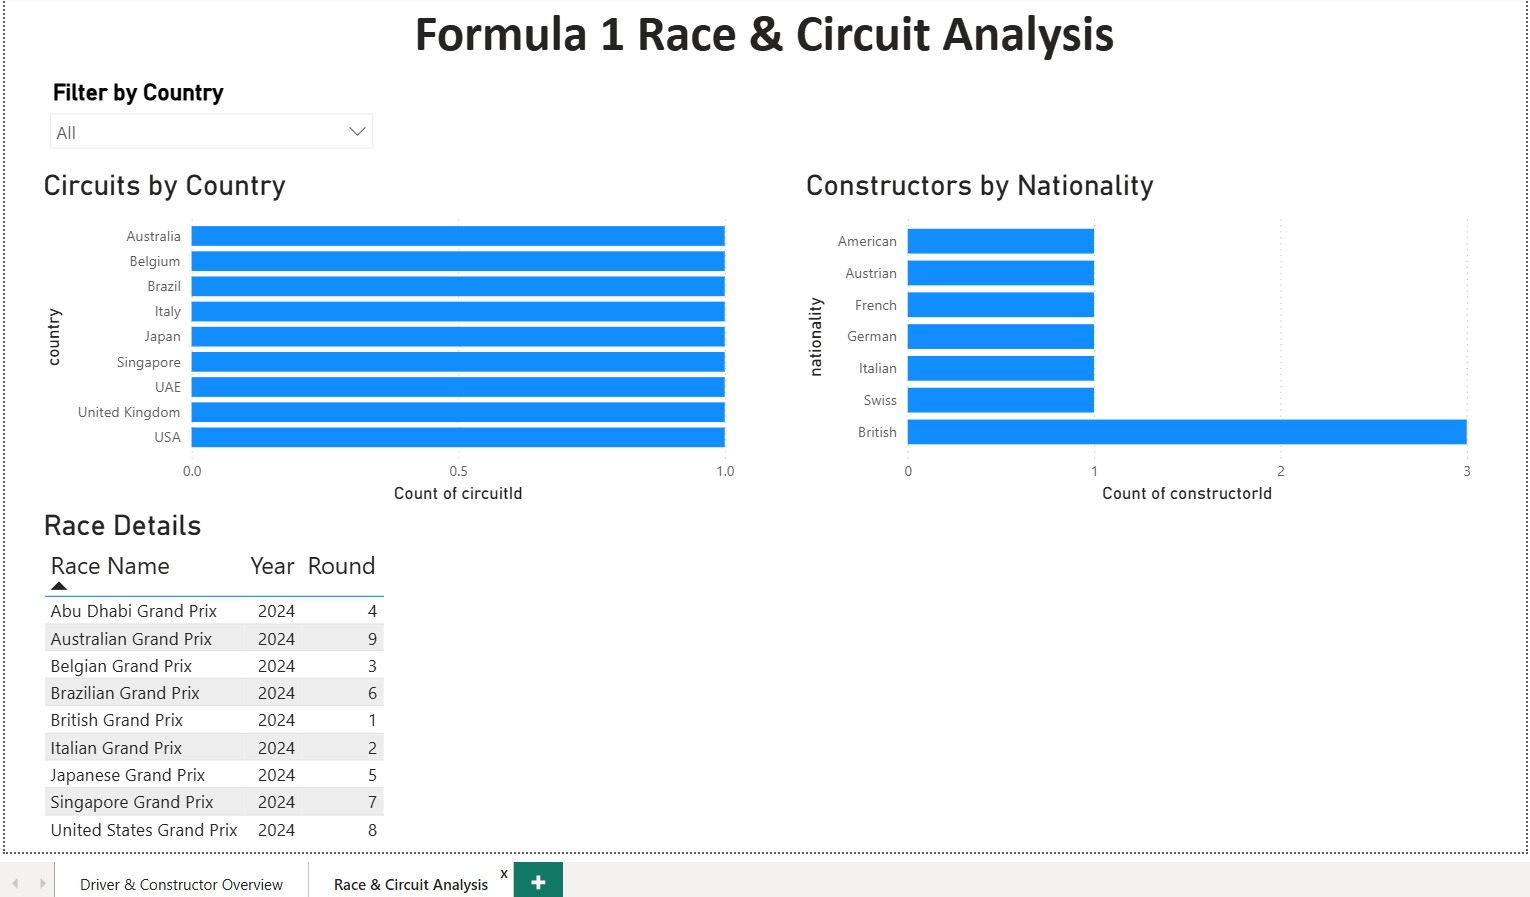

Layout of this report page (visuals, bound fields, positions):
{"tool":"powerbi","page":{"name":"Race & Circuit Analysis","canvas":[1280,720],"ordinal":1},"visuals":[{"type":"tableEx","title":"Race Details","fields":{"Values":["Races.raceName","Races.year","Races.round"]},"box":[27.5,431.2,600,288.8],"z":0},{"type":"textbox","box":[332.6,0,612.8,89.5],"z":1000},{"type":"slicer","fields":{"Values":["Circuits.country"]},"box":[27.5,65,292.5,80],"z":2000},{"type":"clusteredBarChart","title":"Circuits by Country","fields":{"Category":["Circuits.country"],"Y":["CountNonNull(Circuits.circuitId)"]},"box":[27.5,145,591.2,286.2],"z":3000},{"type":"clusteredBarChart","title":"Constructors by Nationality","fields":{"Category":["Constructors.nationality"],"Y":["CountNonNull(Constructors.constructorId)"]},"box":[668.8,145,570,286.2],"z":4000}]}

Visuals, with their boxes on the page's 1280x720 design canvas (x1, y1, x2, y2). These are canvas units, not pixel positions in the 1530x897 screenshot, which may show the page scaled, cropped or inside an application window:
"Race Details" tableEx: {"left": 28, "top": 431, "right": 628, "bottom": 720}
textbox: {"left": 333, "top": 0, "right": 945, "bottom": 90}
slicer - Circuits.country: {"left": 28, "top": 65, "right": 320, "bottom": 145}
"Circuits by Country" clusteredBarChart: {"left": 28, "top": 145, "right": 619, "bottom": 431}
"Constructors by Nationality" clusteredBarChart: {"left": 669, "top": 145, "right": 1239, "bottom": 431}
